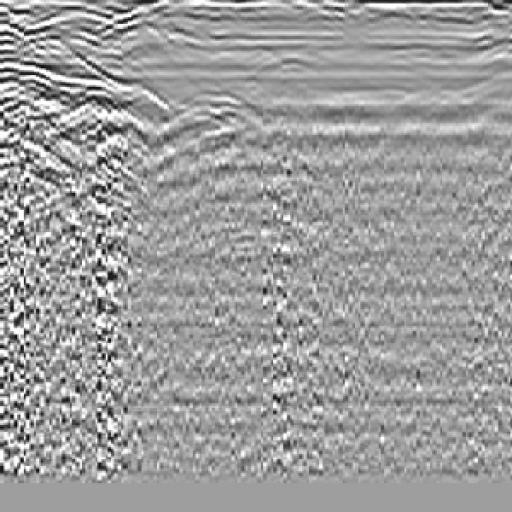non-metallic: (144, 251, 402, 408), (1, 37, 107, 274)
